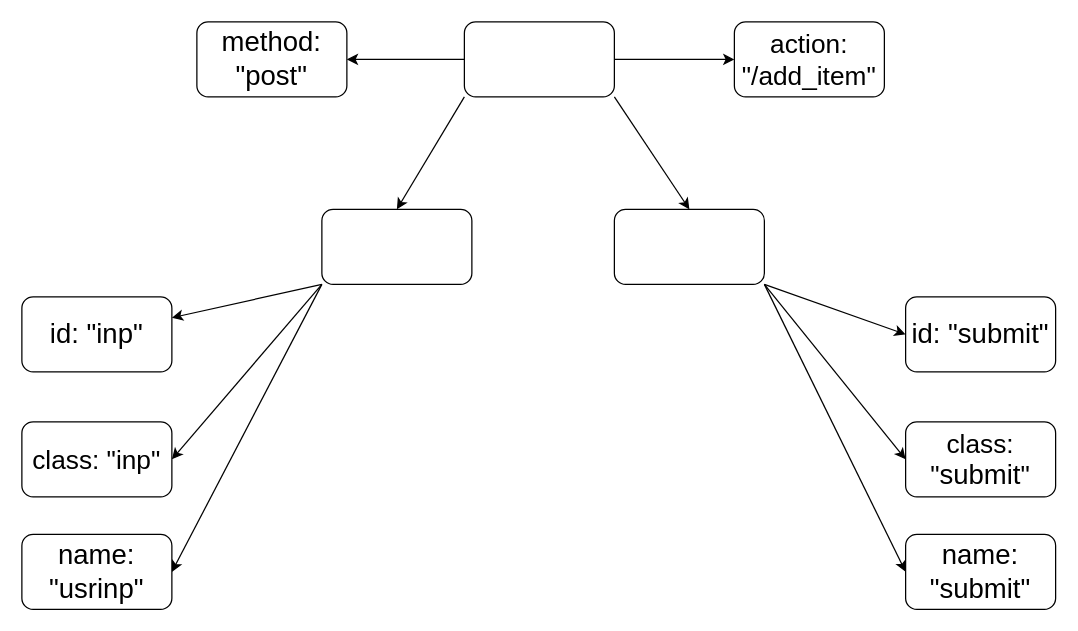
This 1078x631 diagram has some shape labels left out. Here are the shapes that lost their labels. From the top down, the centre of each, then its label:
pixel 538 59: form
pixel 396 246: user input (text form)
pixel 688 246: user input (button)
